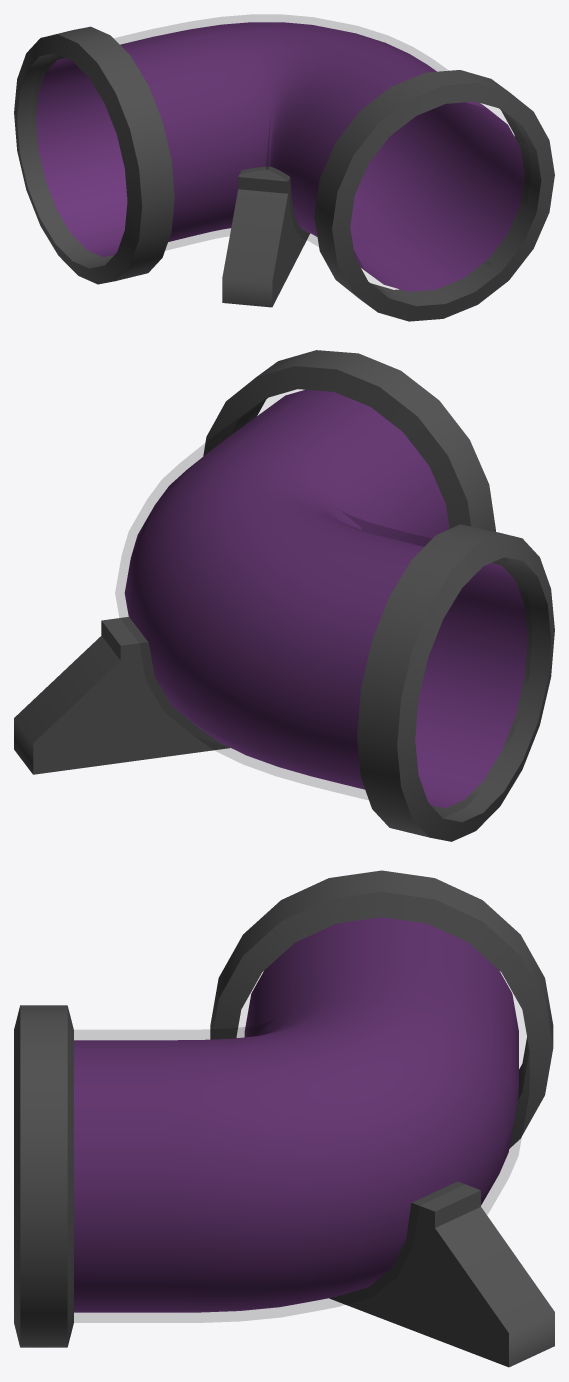
Rendered from Pipe_Turn.fbx.
The picture shows the model from 3 angles, top to bottom: view 1: azimuth 30°, elevation 25°; view 2: azimuth 150°, elevation 25°; view 3: azimuth 270°, elevation 25°; orthographic projection. The views are drawn at different scales.
Parts seen in each view (by area): view 1: Pipe_Turn; view 2: Pipe_Turn; view 3: Pipe_Turn.
Part boxes in pixels (<box>): Pipe_Turn: <box>14,15,554,321</box>; Pipe_Turn: <box>14,350,554,841</box>; Pipe_Turn: <box>14,870,554,1367</box>.
Bounding box in the file's own units: 0.786 × 0.5042 × 0.7913.
